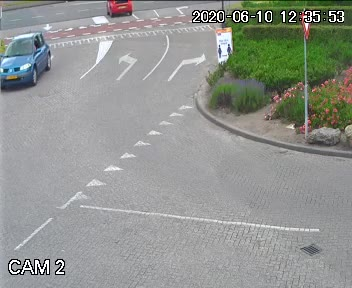car: (0, 33, 53, 87), (102, 0, 135, 23)
